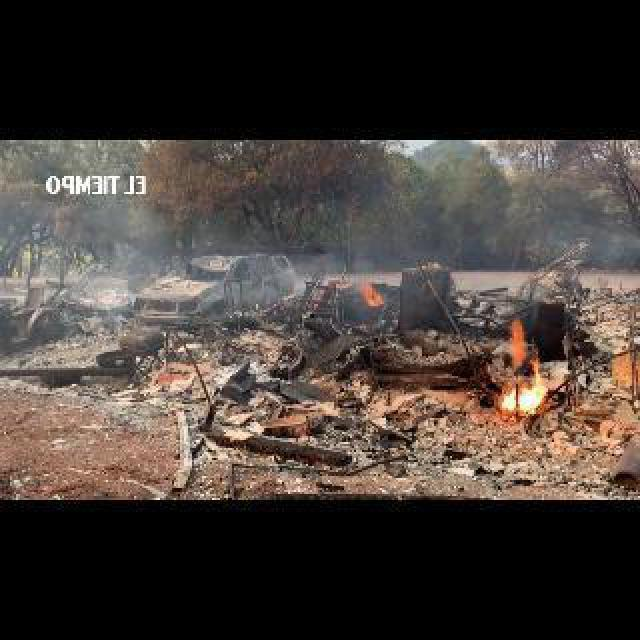Fire: (502, 368, 552, 410), (506, 322, 526, 364), (364, 282, 384, 306)
